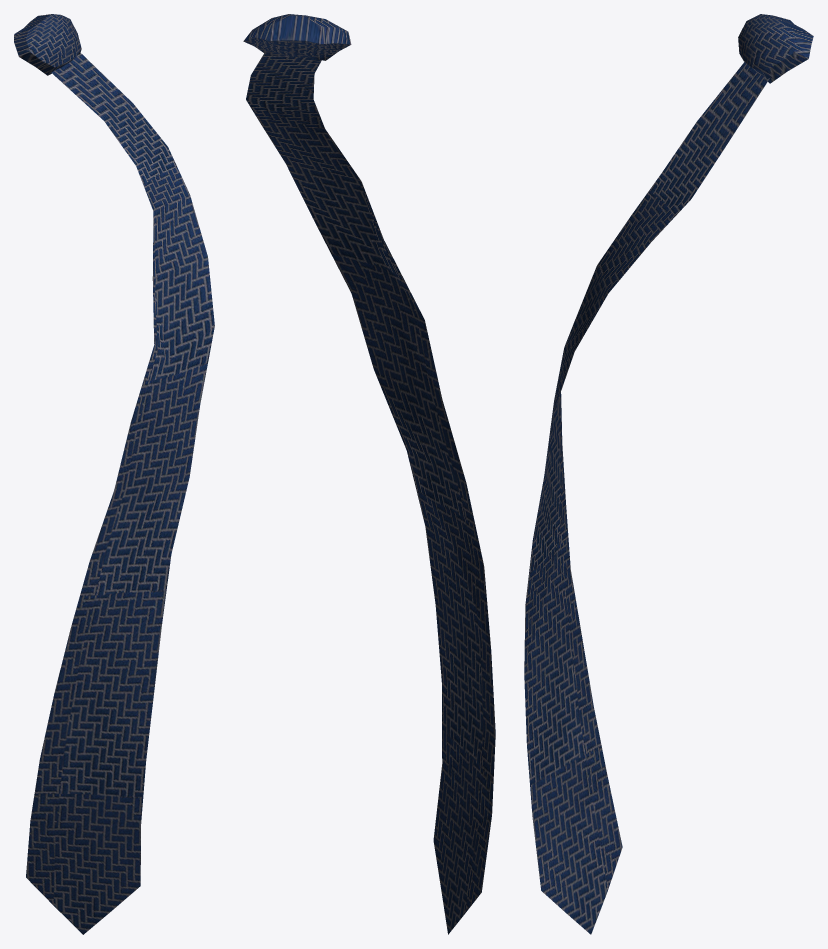
File: Pose-12_Tie-3.fbx
3 renders of one model, left to right at view 1: azimuth 30°, elevation 25°; view 2: azimuth 150°, elevation 25°; view 3: azimuth 270°, elevation 25°, orthographic. The views are drawn at different scales.
Parts seen in each view (by area): view 1: Pose-12_Tie-3; view 2: Pose-12_Tie-3; view 3: Pose-12_Tie-3.
Part boxes in pixels (x1=…): Pose-12_Tie-3: x1=14, y1=14, x2=214, y2=934; Pose-12_Tie-3: x1=243, y1=14, x2=495, y2=934; Pose-12_Tie-3: x1=524, y1=14, x2=813, y2=934.
Size of the model in its own units: 12.4 by 55.76 by 15.53.
